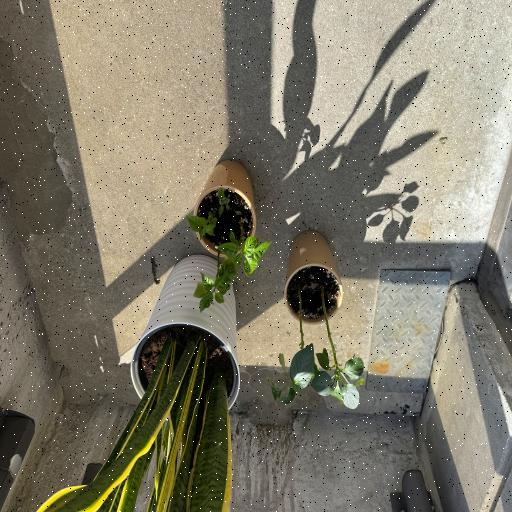Plant Pot: (130, 256, 244, 405), (194, 155, 256, 256), (284, 231, 345, 323)
